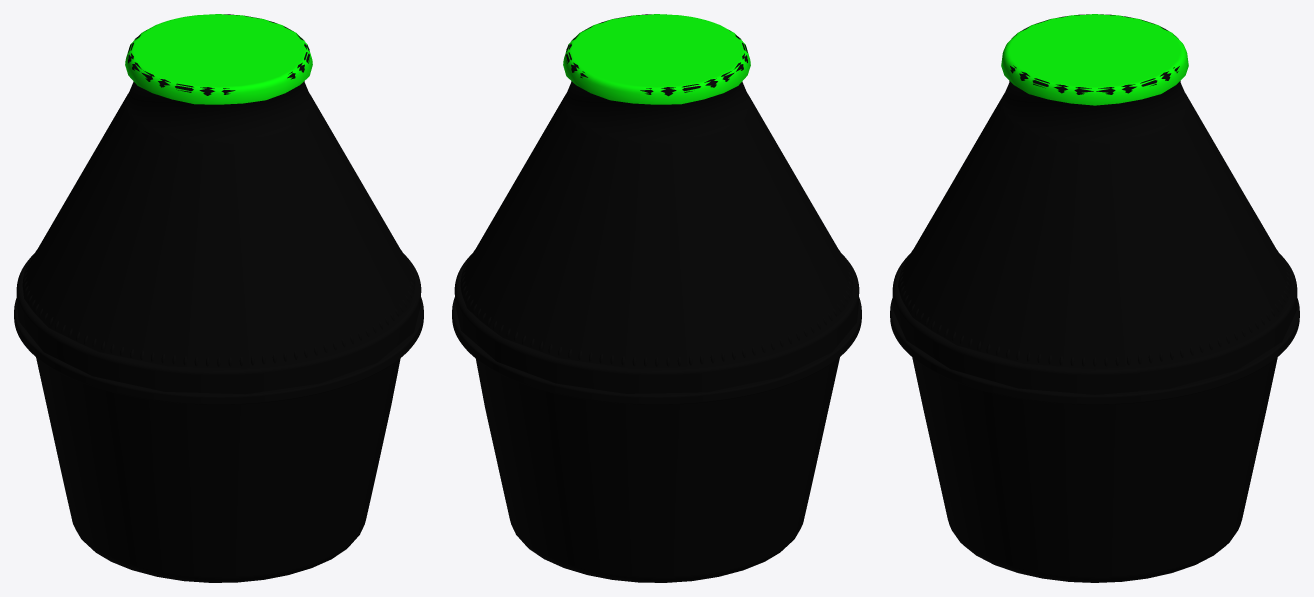
Rendered from food_0001_banana+milk.obj.
3 views of the same model, side by side, from view 1: azimuth 30°, elevation 25°; view 2: azimuth 150°, elevation 25°; view 3: azimuth 270°, elevation 25° (orthographic).
Size of the model in its own units: 79 by 101 by 79.
